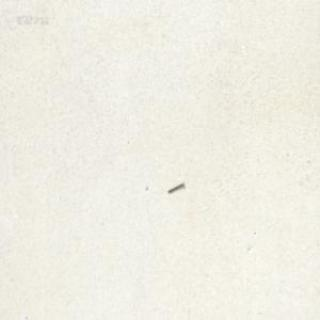Bolttrack_idkeyframe: (166, 178, 183, 192)
